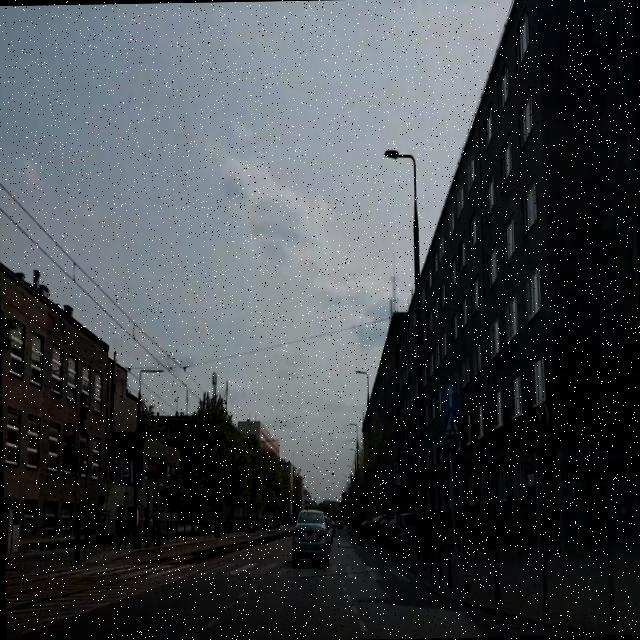Przejscie dla pieszych: (442, 410, 460, 438)
Zakaz wjazdu: (61, 422, 76, 446)
